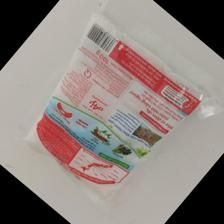Ajinomoto: (27, 17, 208, 202)
